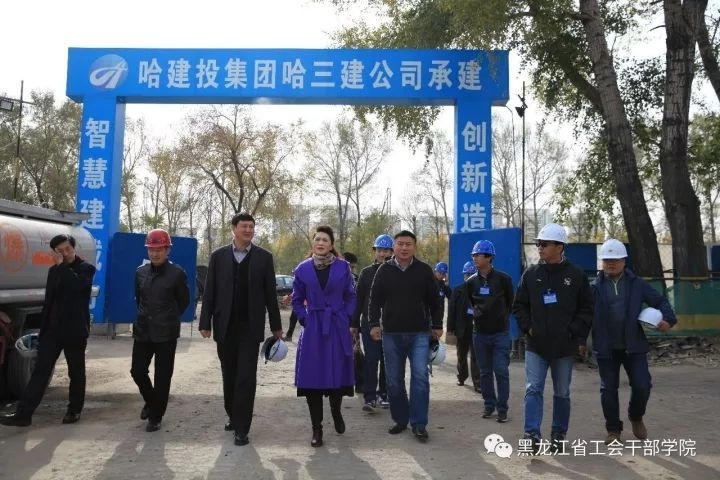blue: (469, 238, 497, 273), (371, 232, 395, 265), (432, 258, 449, 283)
none: (47, 232, 80, 268), (229, 210, 257, 247), (391, 227, 418, 264), (310, 224, 334, 258)
red: (142, 226, 173, 267)
white: (534, 220, 569, 267), (594, 236, 629, 281)
